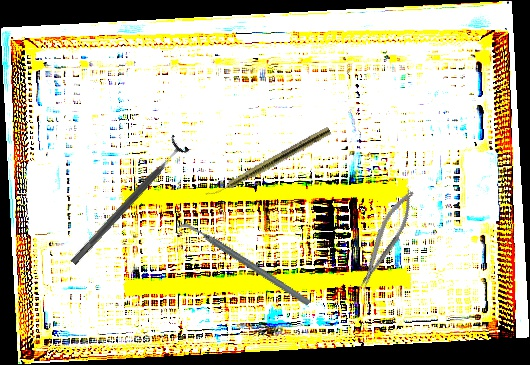Chopper: (175, 186, 312, 342)
Fixation Ring: (63, 133, 191, 272)
Handpiece: (204, 124, 332, 203)
Needle Holder: (348, 185, 423, 294)
